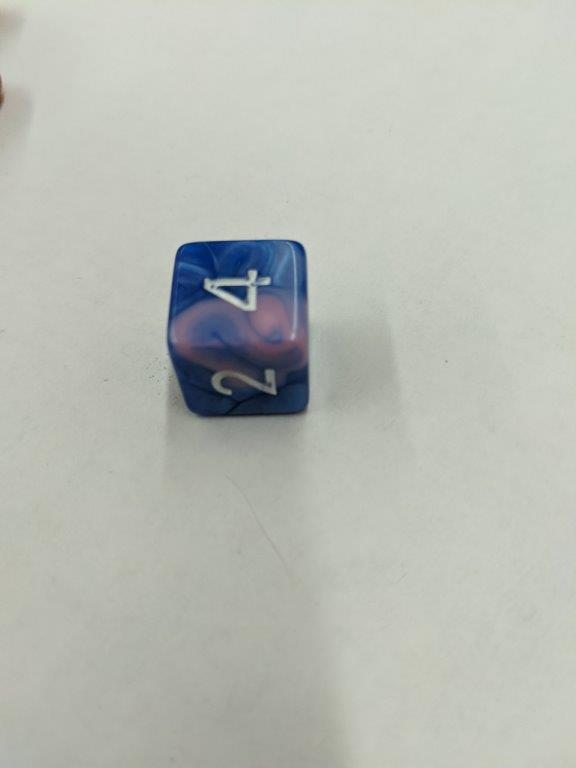d6-4: (168, 238, 313, 423)
